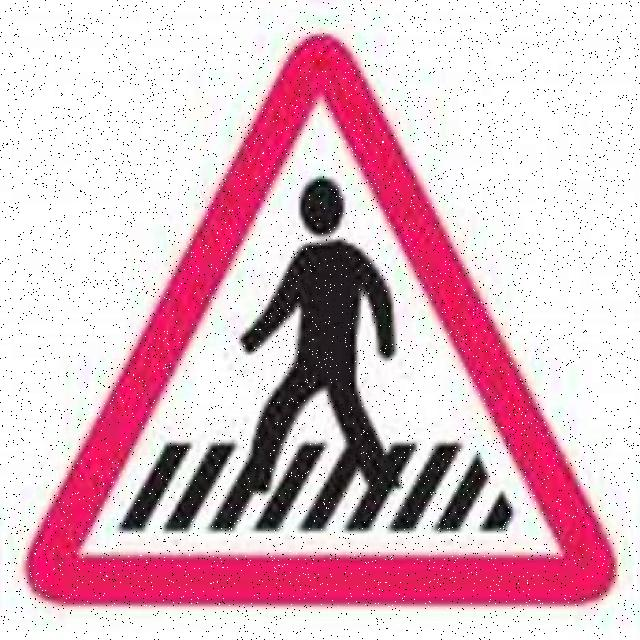Pedestrain_crossing: (22, 43, 610, 603)
